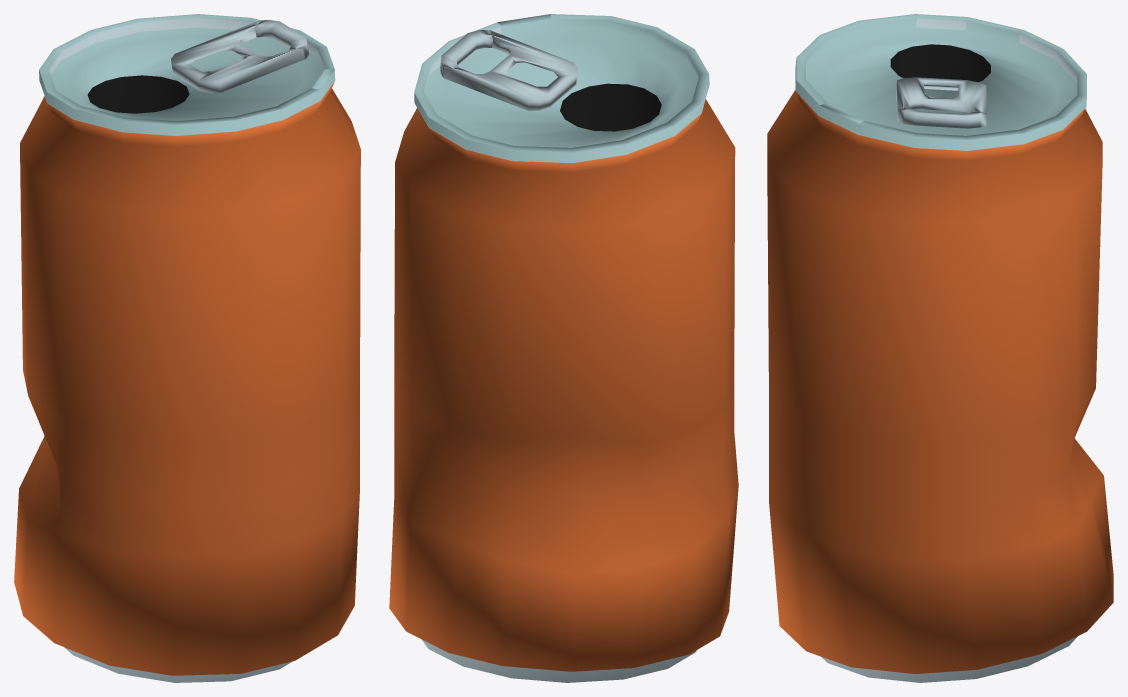
Rendered from CanModel.fbx.
3 views of the same model, side by side, from view 1: azimuth 30°, elevation 25°; view 2: azimuth 150°, elevation 25°; view 3: azimuth 270°, elevation 25° (orthographic).
Parts seen in each view (by area): view 1: Cube.017; view 2: Cube.017; view 3: Cube.017.
Boxes of the visible parts, x1=… form: Cube.017: x1=14, y1=14, x2=360, y2=682; Cube.017: x1=389, y1=14, x2=738, y2=682; Cube.017: x1=767, y1=14, x2=1113, y2=682.
Size of the model in its own units: 0.3095 by 0.3199 by 0.5792.
